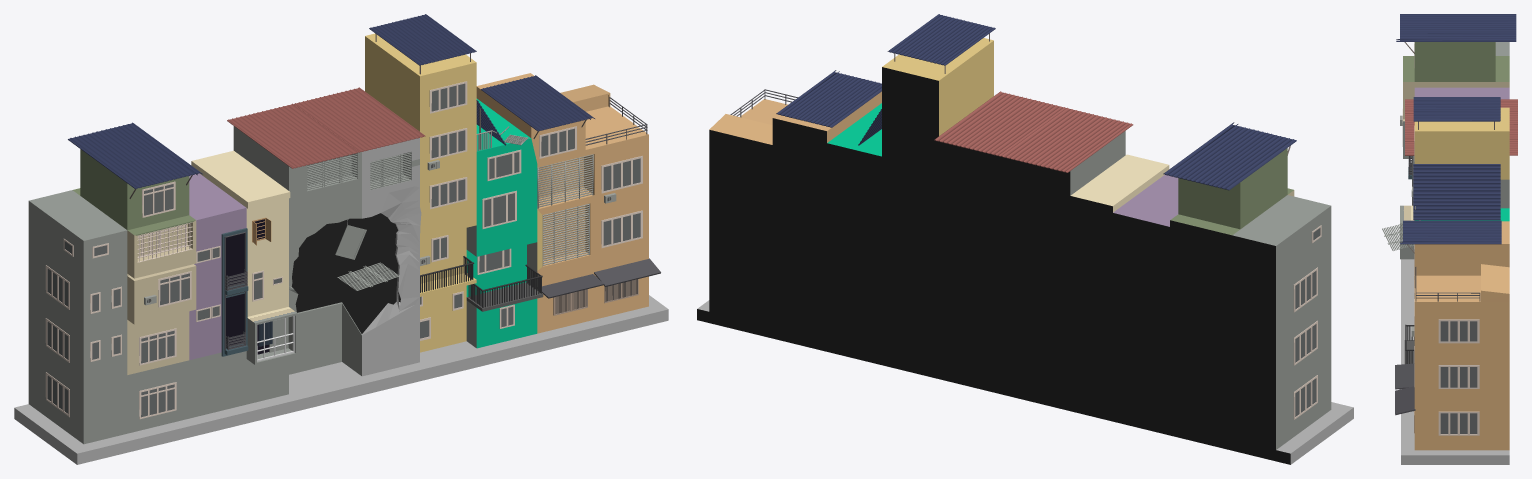
File: TubeHouse.fbx
The picture shows the model from 3 angles, left to right: view 1: azimuth 30°, elevation 25°; view 2: azimuth 150°, elevation 25°; view 3: azimuth 270°, elevation 25°; orthographic projection. The views are drawn at different scales.
Visible parts, largest first — view 1: tubeHouse.001, Cube.032, Cube.070, Cube.020, Cylinder.014, Cylinder.010; view 2: tubeHouse.001, Cube.032, Cube.070, Cube.020; view 3: tubeHouse.001, Cube.032, Cube.070, Cube.020, Cylinder.014, Cylinder.010.
Part boxes in pixels (bbox=[...]): tubeHouse.001: bbox=[14, 33, 668, 464]; Cube.032: bbox=[68, 14, 594, 198]; Cube.070: bbox=[47, 83, 640, 417]; Cube.020: bbox=[45, 81, 642, 419]; Cylinder.014: bbox=[224, 97, 660, 350]; Cylinder.010: bbox=[420, 256, 542, 307]; tubeHouse.001: bbox=[697, 38, 1353, 464]; Cube.032: bbox=[776, 14, 1296, 190]; Cube.070: bbox=[1295, 228, 1320, 416]; Cube.020: bbox=[1293, 225, 1321, 419]; tubeHouse.001: bbox=[1382, 42, 1509, 464]; Cube.032: bbox=[1396, 14, 1517, 253]; Cube.070: bbox=[1440, 321, 1477, 433]; Cube.020: bbox=[1402, 42, 1479, 435]; Cylinder.014: bbox=[1395, 156, 1480, 433]; Cylinder.010: bbox=[1405, 324, 1414, 363].
Size of the model in its own units: 1618 by 810 by 374.
